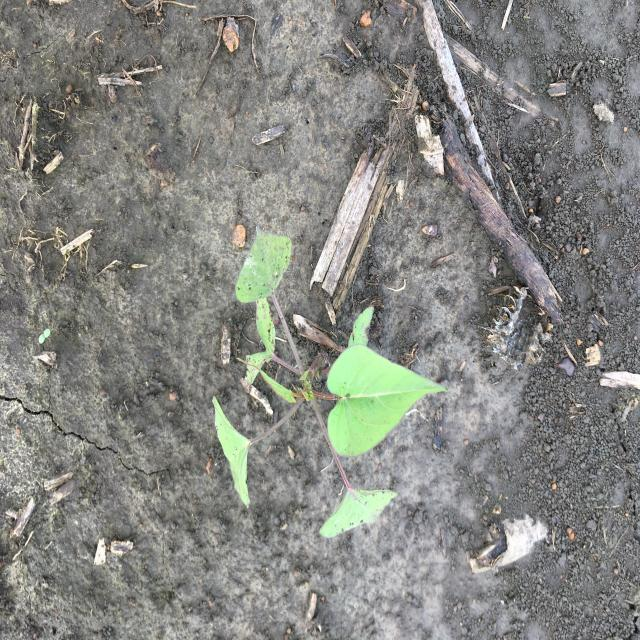MorningGlory: (211, 224, 451, 540)
